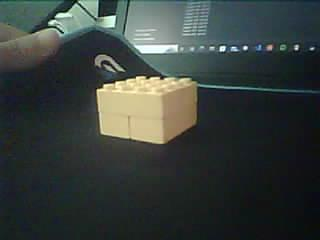lego: (96, 74, 198, 143)
